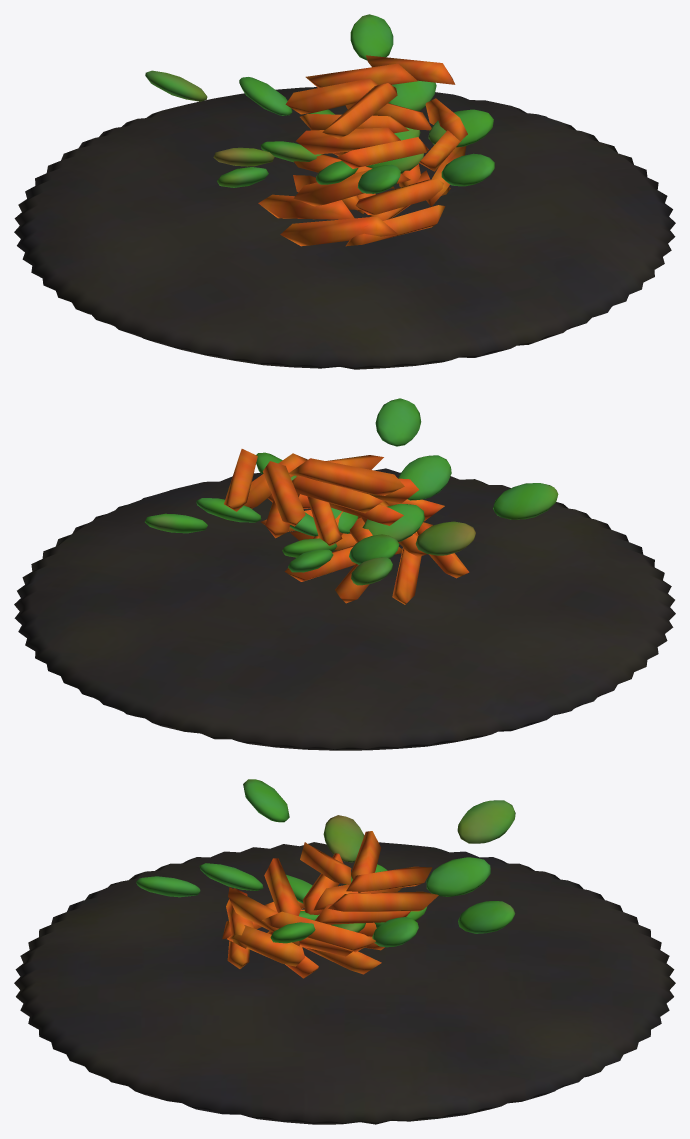
Rendered from golden-chilli-potato-ultralight.glb.
3 renders of one model, top to bottom at view 1: azimuth 30°, elevation 25°; view 2: azimuth 150°, elevation 25°; view 3: azimuth 270°, elevation 25°, orthographic.
Visible parts, largest first — view 1: Mesh_Porcelain_Appetizer_Platter, Mesh_Honey_Chilli_Potato_Fingers, Mesh_Caramelized_Capsicum_And_Sesame; view 2: Mesh_Porcelain_Appetizer_Platter, Mesh_Honey_Chilli_Potato_Fingers, Mesh_Caramelized_Capsicum_And_Sesame; view 3: Mesh_Porcelain_Appetizer_Platter, Mesh_Honey_Chilli_Potato_Fingers, Mesh_Caramelized_Capsicum_And_Sesame.
Part boxes in pixels (<box>): Mesh_Porcelain_Appetizer_Platter: <box>14,87,675,369</box>; Mesh_Honey_Chilli_Potato_Fingers: <box>258,55,467,246</box>; Mesh_Caramelized_Capsicum_And_Sesame: <box>145,14,494,193</box>; Mesh_Porcelain_Appetizer_Platter: <box>14,468,675,750</box>; Mesh_Honey_Chilli_Potato_Fingers: <box>224,449,469,604</box>; Mesh_Caramelized_Capsicum_And_Sesame: <box>145,398,558,585</box>; Mesh_Porcelain_Appetizer_Platter: <box>14,842,675,1124</box>; Mesh_Honey_Chilli_Potato_Fingers: <box>222,831,438,978</box>; Mesh_Caramelized_Capsicum_And_Sesame: <box>136,779,515,947</box>.
Size of the model in its own units: 2.2 by 0.6092 by 2.2.
Materials: 3 (3 with a texture image).
